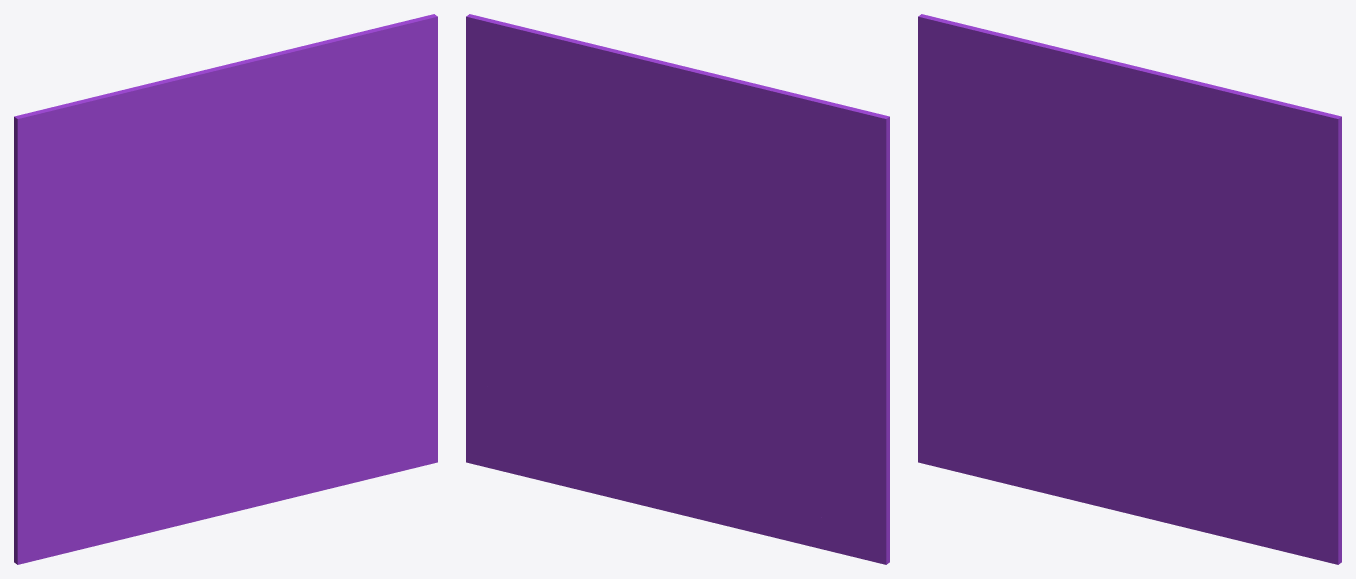
The model's file is Window_40_chunks.fbx.
3 views of the same model, side by side, from view 1: azimuth 30°, elevation 25°; view 2: azimuth 150°, elevation 25°; view 3: azimuth 330°, elevation 25° (orthographic).
Parts seen in each view (by area): view 1: Window_40_0, Window_40_3, Window_40_7, Window_40_9, Window_40_4, Window_40_10, Window_40_12, Window_40_5, Window_40_6, Window_40_2, Window_40_8, Window_40_11; view 2: Window_40_0, Window_40_3, Window_40_7, Window_40_10, Window_40_4, Window_40_12, Window_40_5, Window_40_9, Window_40_11, Window_40_6, Window_40_2, Window_40_8; view 3: Window_40_0, Window_40_3, Window_40_7, Window_40_4, Window_40_9, Window_40_10, Window_40_12, Window_40_5, Window_40_6, Window_40_2, Window_40_8, Window_40_11.
Boxes of the visible parts, left/top/right/bottom form: Window_40_0: left=234, top=66, right=437, bottom=387; Window_40_3: left=48, top=68, right=276, bottom=286; Window_40_7: left=52, top=337, right=273, bottom=556; Window_40_9: left=14, top=107, right=137, bottom=324; Window_40_4: left=211, top=14, right=437, bottom=153; Window_40_10: left=42, top=266, right=224, bottom=558; Window_40_12: left=14, top=250, right=97, bottom=564; Window_40_5: left=282, top=335, right=437, bottom=473; Window_40_6: left=183, top=398, right=390, bottom=524; Window_40_2: left=220, top=118, right=389, bottom=291; Window_40_8: left=195, top=289, right=328, bottom=399; Window_40_11: left=122, top=203, right=199, bottom=307; Window_40_0: left=466, top=55, right=676, bottom=396; Window_40_3: left=630, top=68, right=857, bottom=281; Window_40_7: left=626, top=334, right=845, bottom=554; Window_40_10: left=676, top=266, right=860, bottom=558; Window_40_4: left=466, top=14, right=692, bottom=148; Window_40_12: left=805, top=252, right=889, bottom=564; Window_40_5: left=466, top=339, right=626, bottom=475; Window_40_9: left=797, top=109, right=889, bottom=306; Window_40_11: left=696, top=163, right=819, bottom=323; Window_40_6: left=522, top=404, right=712, bottom=522; Window_40_2: left=527, top=122, right=680, bottom=285; Window_40_8: left=586, top=295, right=701, bottom=393; Window_40_0: left=1135, top=155, right=1341, bottom=496; Window_40_3: left=949, top=23, right=1176, bottom=282; Window_40_7: left=952, top=321, right=1173, bottom=502; Window_40_4: left=1114, top=62, right=1341, bottom=196; Window_40_9: left=918, top=14, right=1038, bottom=261; Window_40_10: left=942, top=252, right=1124, bottom=470; Window_40_12: left=918, top=157, right=998, bottom=468; Window_40_5: left=1182, top=384, right=1341, bottom=564; Window_40_6: left=1083, top=422, right=1291, bottom=553; Window_40_2: left=1120, top=177, right=1290, bottom=292; Window_40_8: left=1095, top=290, right=1228, bottom=423; Window_40_11: left=1022, top=159, right=1099, bottom=255.
Size of the model in its own units: 1826 by 1851 by 27.2.
